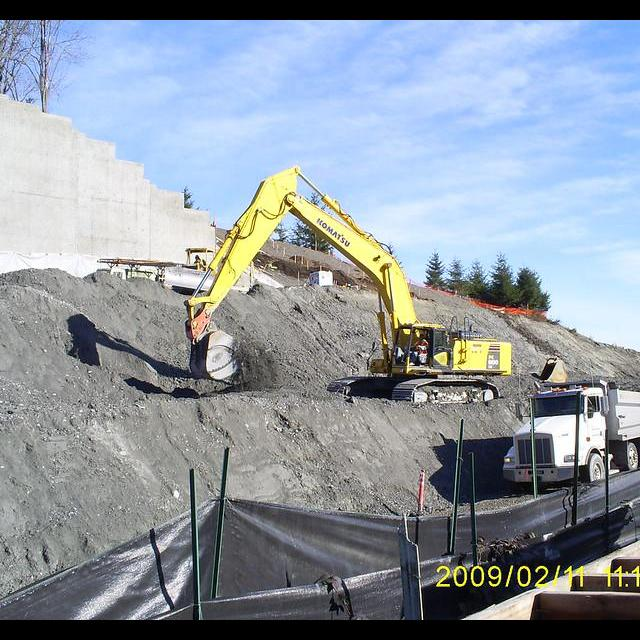Excavator: (187, 164, 511, 408)
Person: (410, 335, 429, 365), (194, 254, 207, 269)
Safety Vest: (415, 339, 428, 352), (195, 260, 204, 266)
dump truck: (501, 380, 640, 483)
